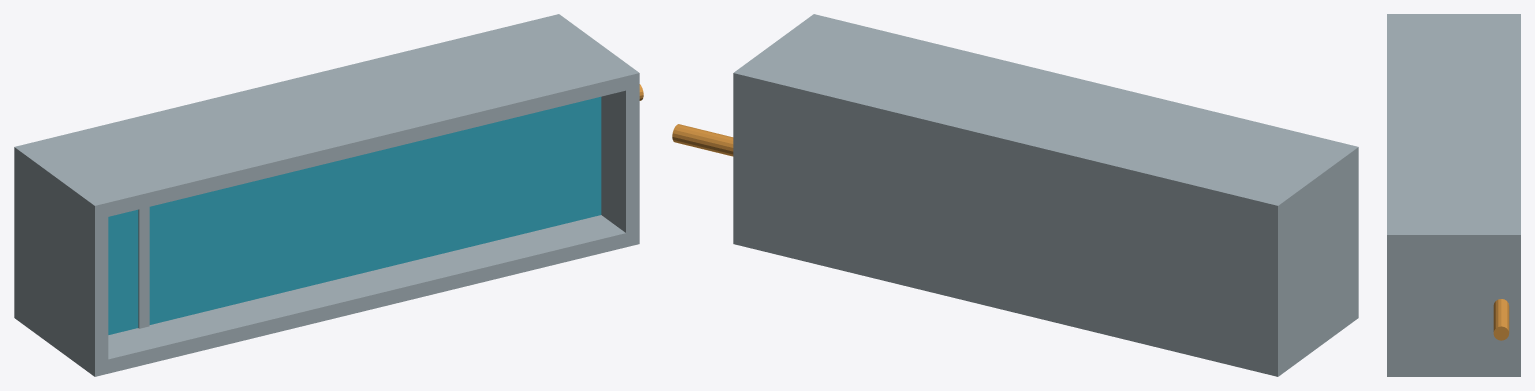
The model's file is desarenador.obj.
The picture shows the model from 3 angles, left to right: view 1: azimuth 30°, elevation 25°; view 2: azimuth 150°, elevation 25°; view 3: azimuth 270°, elevation 25°; orthographic projection. The views are drawn at different scales.
Parts seen in each view (by area): view 1: Agua_ilustrativa, Muro_derecho, Muro_izquierdo, Cabecera, Losa, Salida, Tabique_de_entrada; view 2: Losa, Muro_derecho, Cabecera, Purga, Muro_izquierdo; view 3: Muro_derecho, Salida, Losa, Muro_izquierdo, Purga.
Part boxes in pixels (left/top/right/bottom): Agua_ilustrativa: left=108, top=96, right=601, bottom=334; Muro_derecho: left=24, top=21, right=639, bottom=219; Muro_izquierdo: left=24, top=215, right=639, bottom=376; Cabecera: left=24, top=168, right=108, bottom=362; Losa: left=14, top=14, right=568, bottom=324; Salida: left=601, top=87, right=639, bottom=232; Tabique_de_entrada: left=138, top=207, right=149, bottom=328; Losa: left=733, top=66, right=1287, bottom=376; Muro_derecho: left=743, top=14, right=1358, bottom=212; Cabecera: left=1288, top=161, right=1358, bottom=354; Purga: left=672, top=124, right=733, bottom=156; Muro_izquierdo: left=1288, top=304, right=1358, bottom=369; Muro_derecho: left=1387, top=14, right=1504, bottom=246; Salida: left=1387, top=246, right=1504, bottom=364; Losa: left=1504, top=14, right=1520, bottom=376; Muro_izquierdo: left=1387, top=365, right=1504, bottom=376; Purga: left=1493, top=299, right=1509, bottom=340.
Size of the model in its own units: 9 by 2.4 by 2.05.
